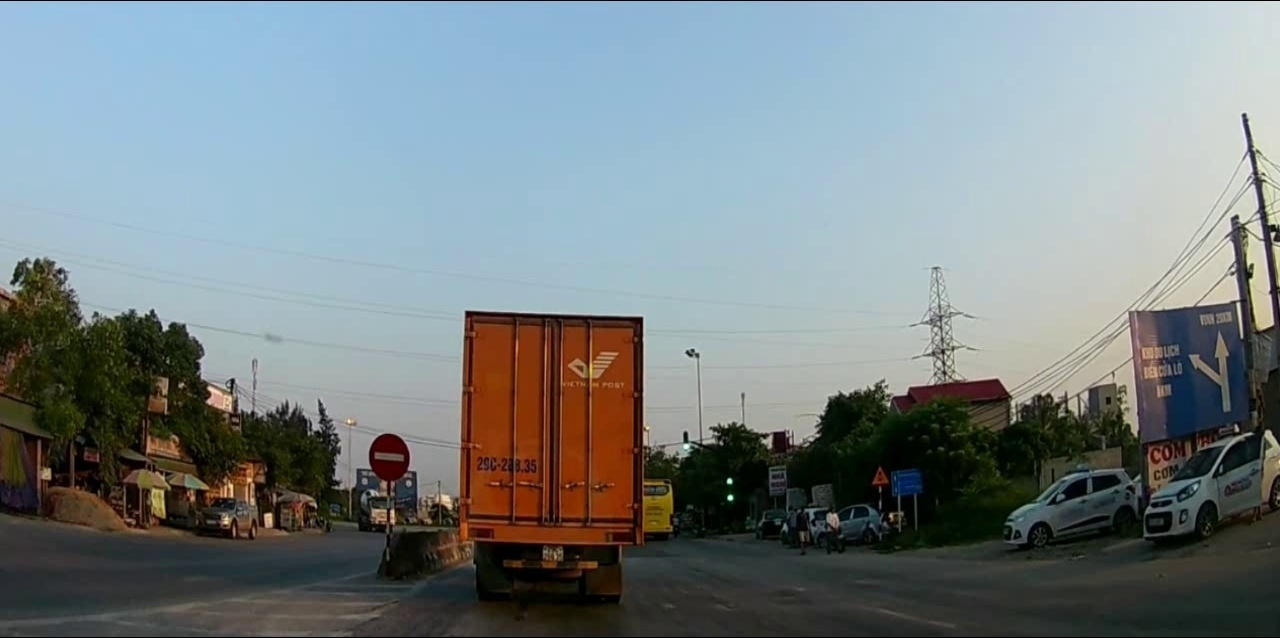Bien khac: (1128, 302, 1253, 445), (873, 466, 889, 486)
Cam di nguoc chieu: (370, 433, 410, 481)
